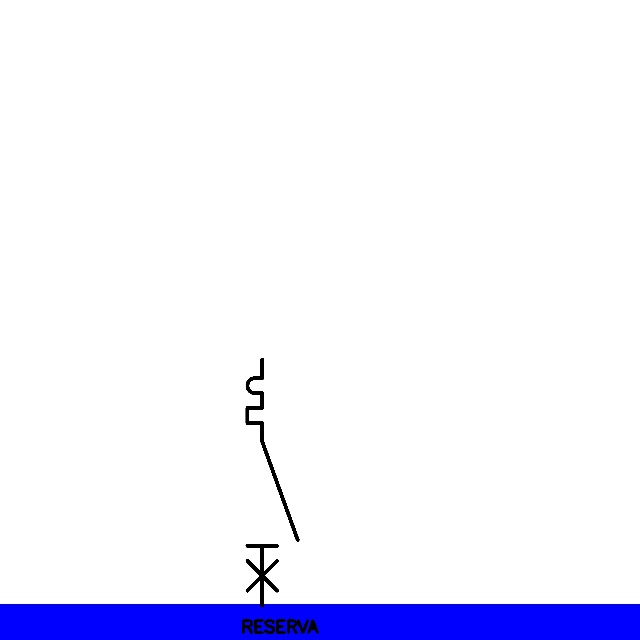interruptor_termomagnetico: (241, 353, 304, 612)
